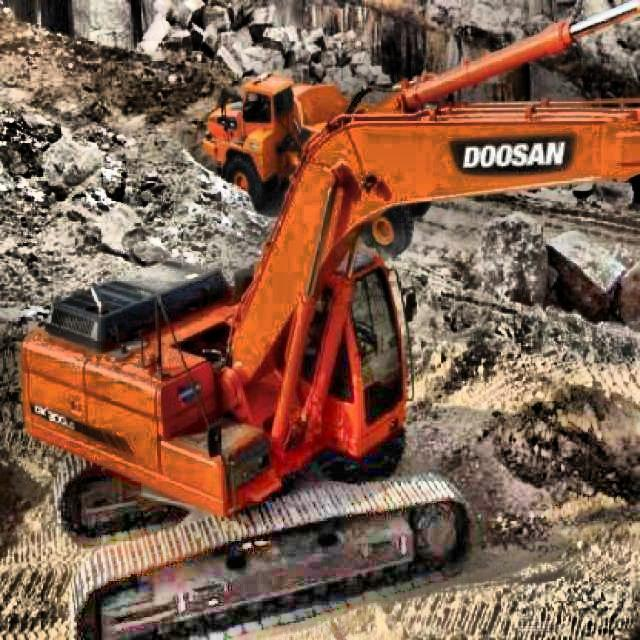dump_truck: (202, 67, 346, 206)
excavator: (12, 81, 637, 637)
